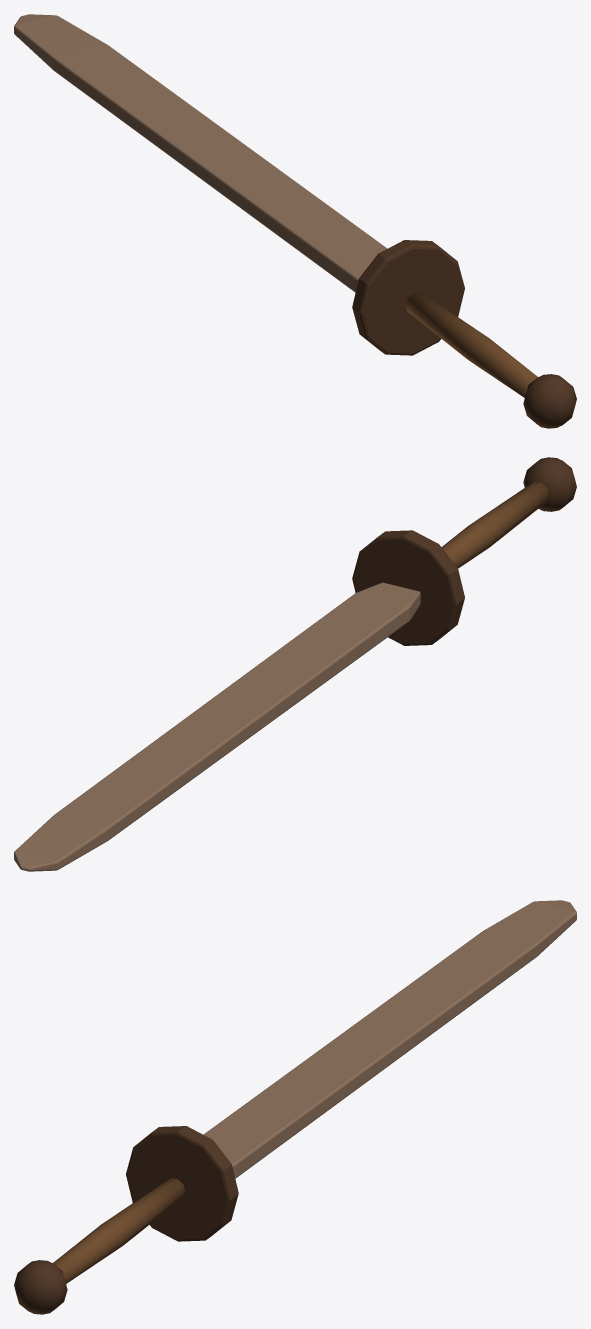
File: greatsword_07_cleaver_rusty.glb
3 renders of one model, top to bottom at view 1: azimuth 30°, elevation 25°; view 2: azimuth 150°, elevation 25°; view 3: azimuth 330°, elevation 25°, orthographic.
Parts seen in each view (by area): view 1: 07_cleaver_rusty_Blade, 07_cleaver_rusty_Guard, 07_cleaver_rusty_Grip, 07_cleaver_rusty_Pommel; view 2: 07_cleaver_rusty_Blade, 07_cleaver_rusty_Guard, 07_cleaver_rusty_Grip, 07_cleaver_rusty_Pommel; view 3: 07_cleaver_rusty_Blade, 07_cleaver_rusty_Guard, 07_cleaver_rusty_Grip, 07_cleaver_rusty_Pommel.
Boxes of the visible parts, box(x1,y1,x2,y2) form: 07_cleaver_rusty_Blade: box(14, 14, 387, 292); 07_cleaver_rusty_Guard: box(352, 240, 464, 355); 07_cleaver_rusty_Grip: box(405, 292, 537, 397); 07_cleaver_rusty_Pommel: box(523, 374, 576, 428); 07_cleaver_rusty_Blade: box(14, 582, 420, 871); 07_cleaver_rusty_Guard: box(352, 530, 464, 645); 07_cleaver_rusty_Grip: box(441, 481, 548, 568); 07_cleaver_rusty_Pommel: box(523, 457, 576, 511); 07_cleaver_rusty_Blade: box(203, 900, 576, 1178); 07_cleaver_rusty_Guard: box(126, 1126, 238, 1241); 07_cleaver_rusty_Grip: box(53, 1178, 185, 1283); 07_cleaver_rusty_Pommel: box(14, 1260, 67, 1314).
Bounding box in the file's own units: 0.1517 × 0.1517 × 1.34.
